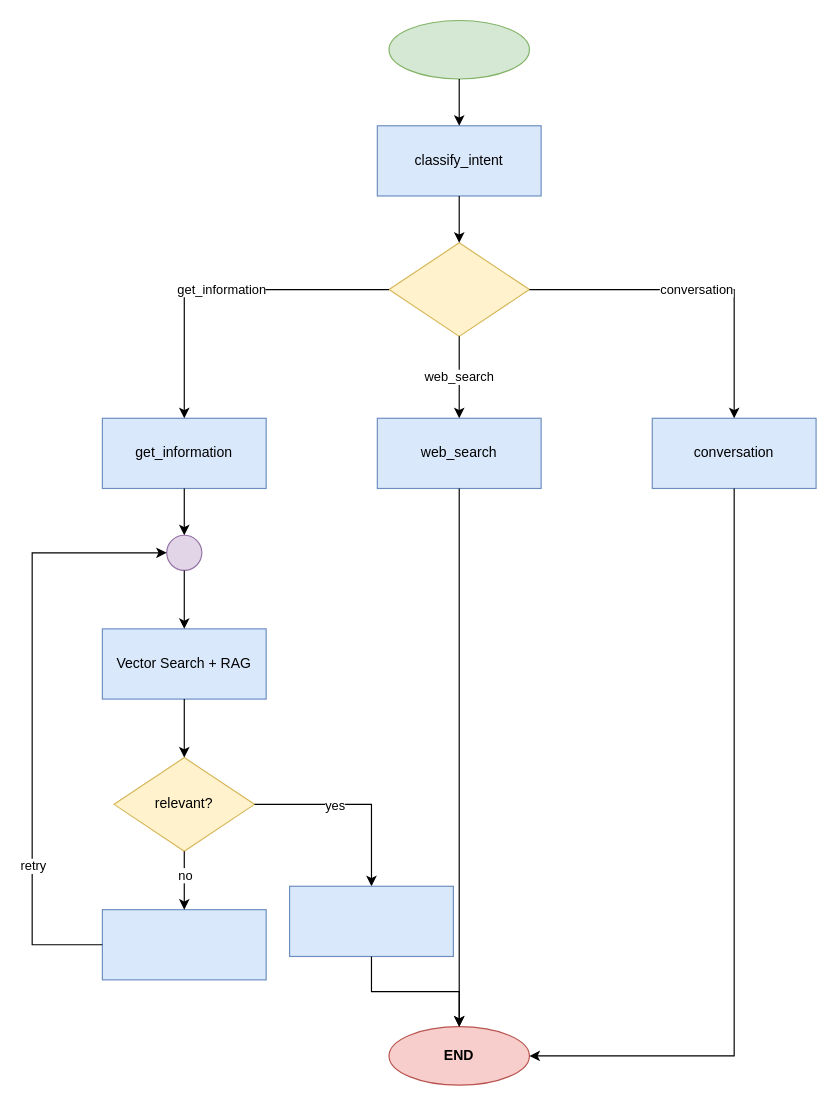
This 837x1106 diagram has some shape labels left out. Here are the shapes that lost their labels. From the top down, the centre of each, then its label:
At point (458, 49): "START".
At point (458, 289): "intent?".
At point (370, 920): "Generate Response".
At point (183, 944): "Rewrite prompt".
